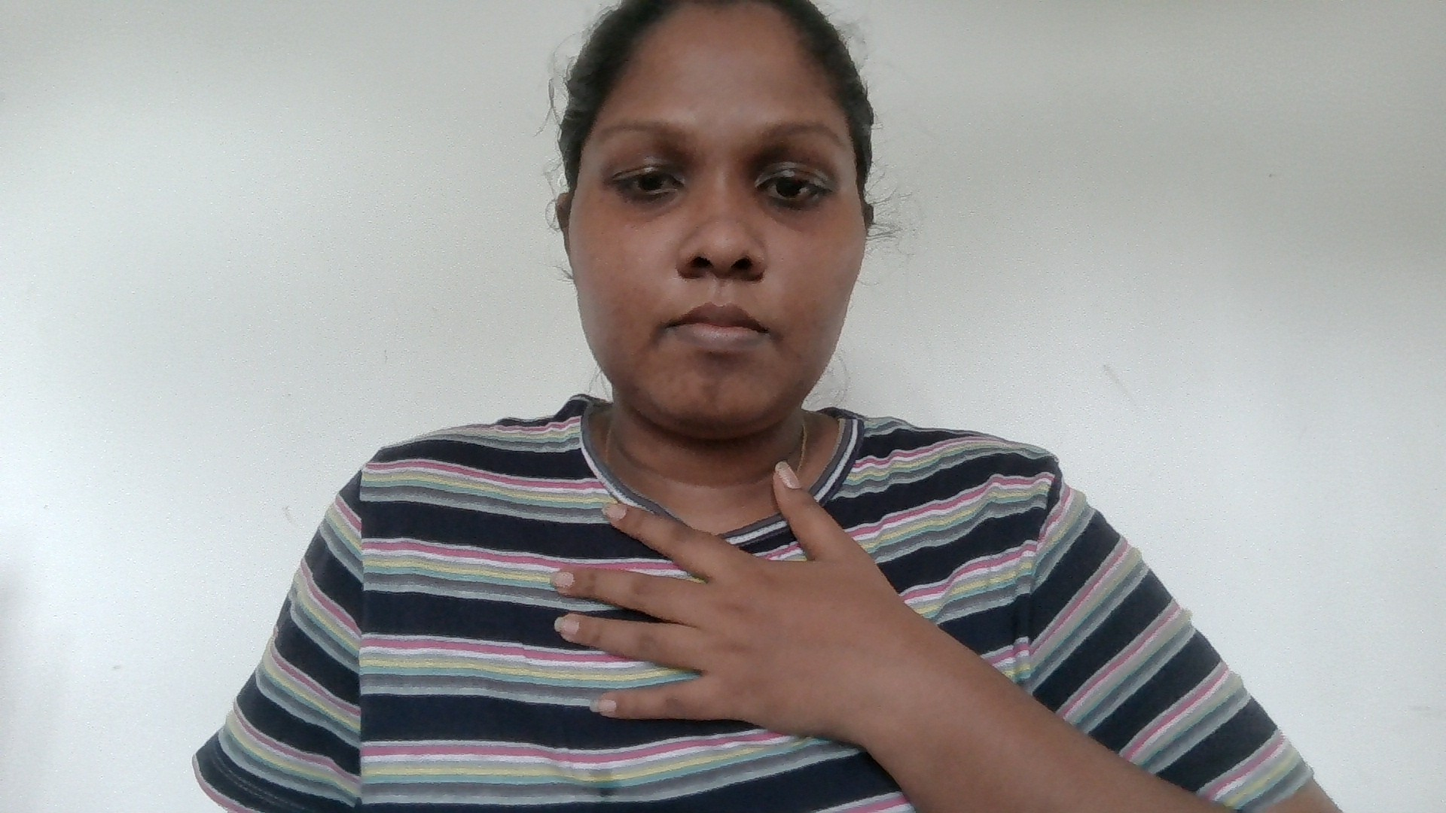Please: (540, 467, 912, 760)
